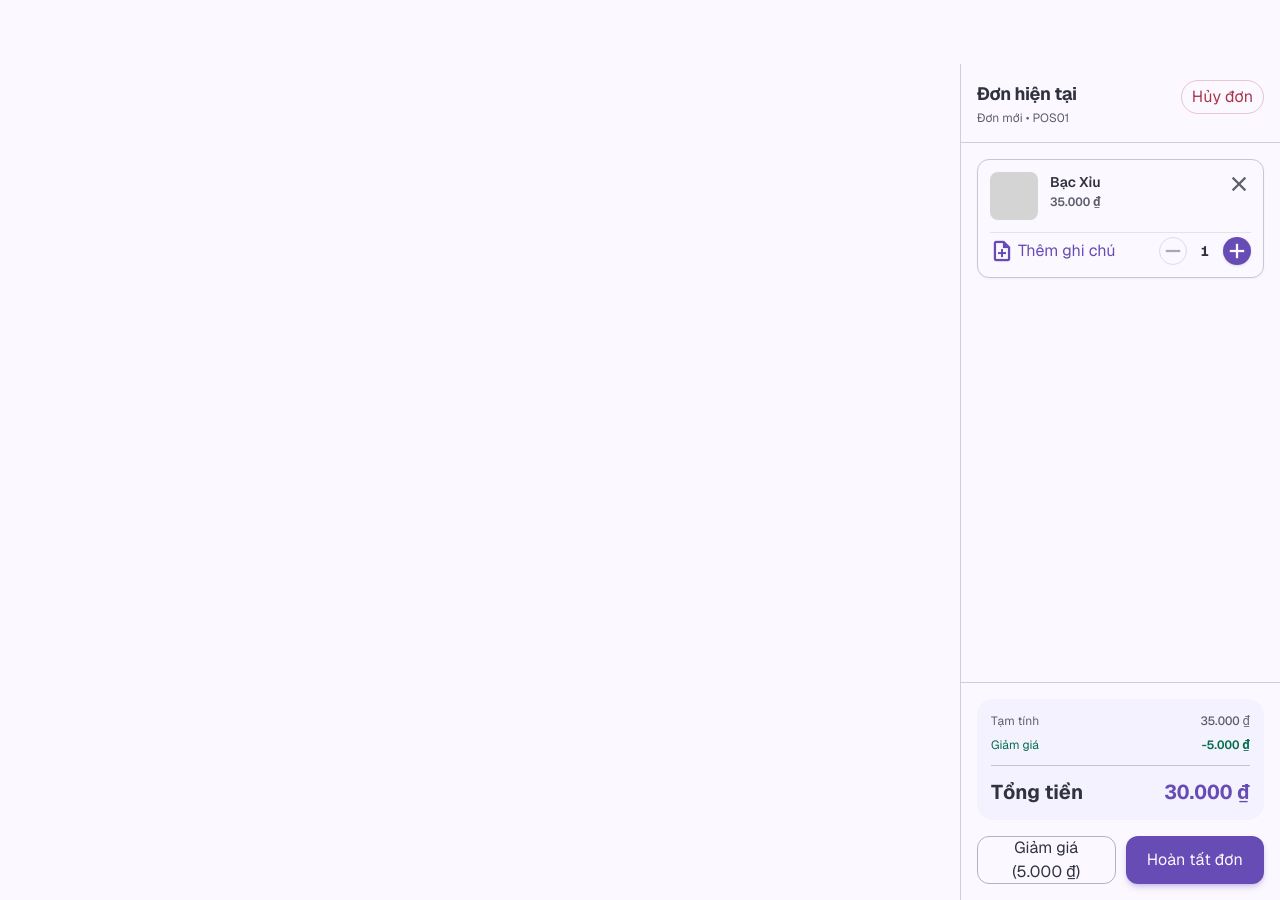
it: CartPanel discount modal › Quay lại does not commit discount changes
This screenshot has width=1280, height=900.
Click the button "Giảm giá (5.000 ₫)" at {"x": 1046, "y": 860}, box [977,836,1116,884]
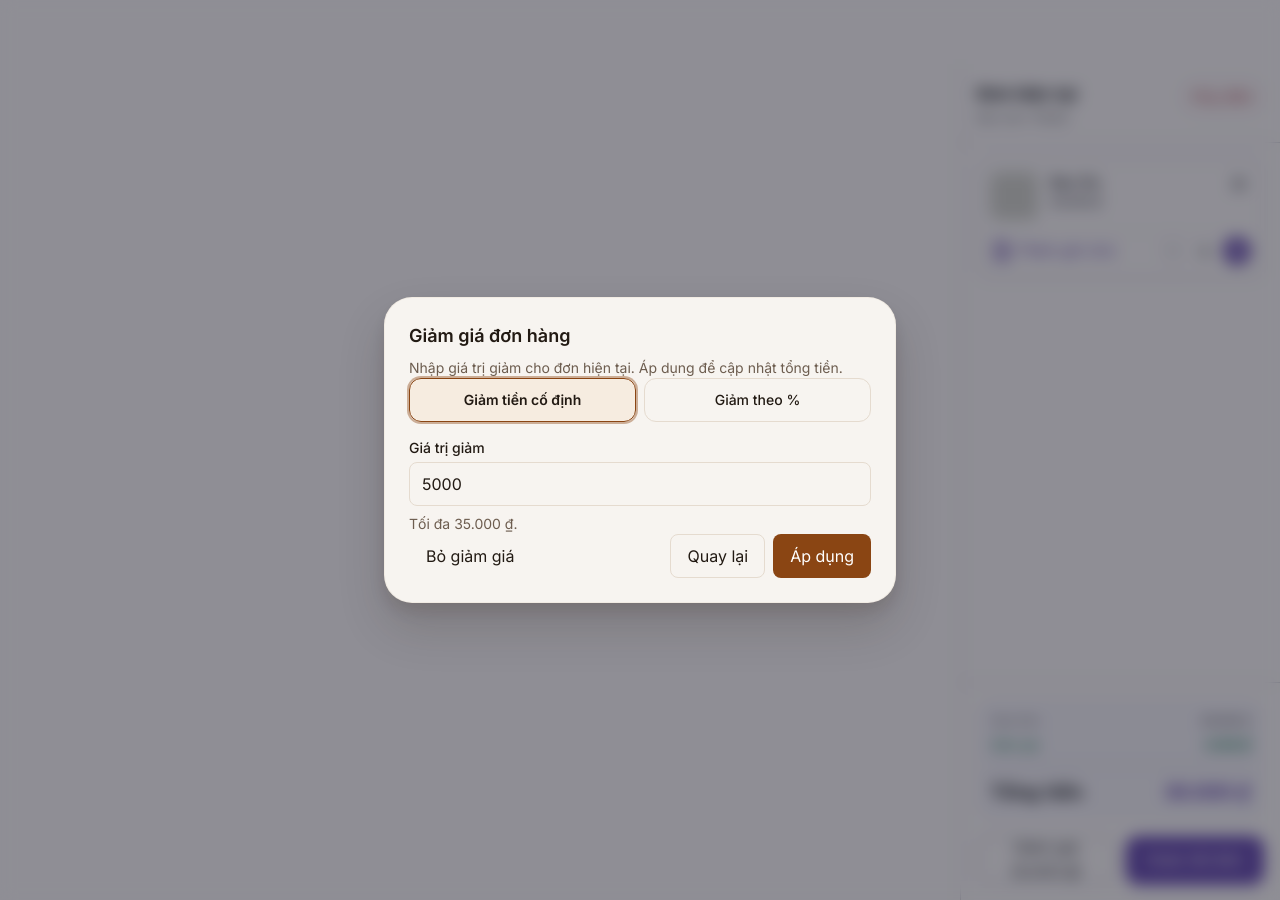
Expected: the dialog is shown, [384,297,896,603]
Replace the text in the field labelled "Giá trị giảm" with "9000" at {"x": 640, "y": 484}, box [409,462,871,506]
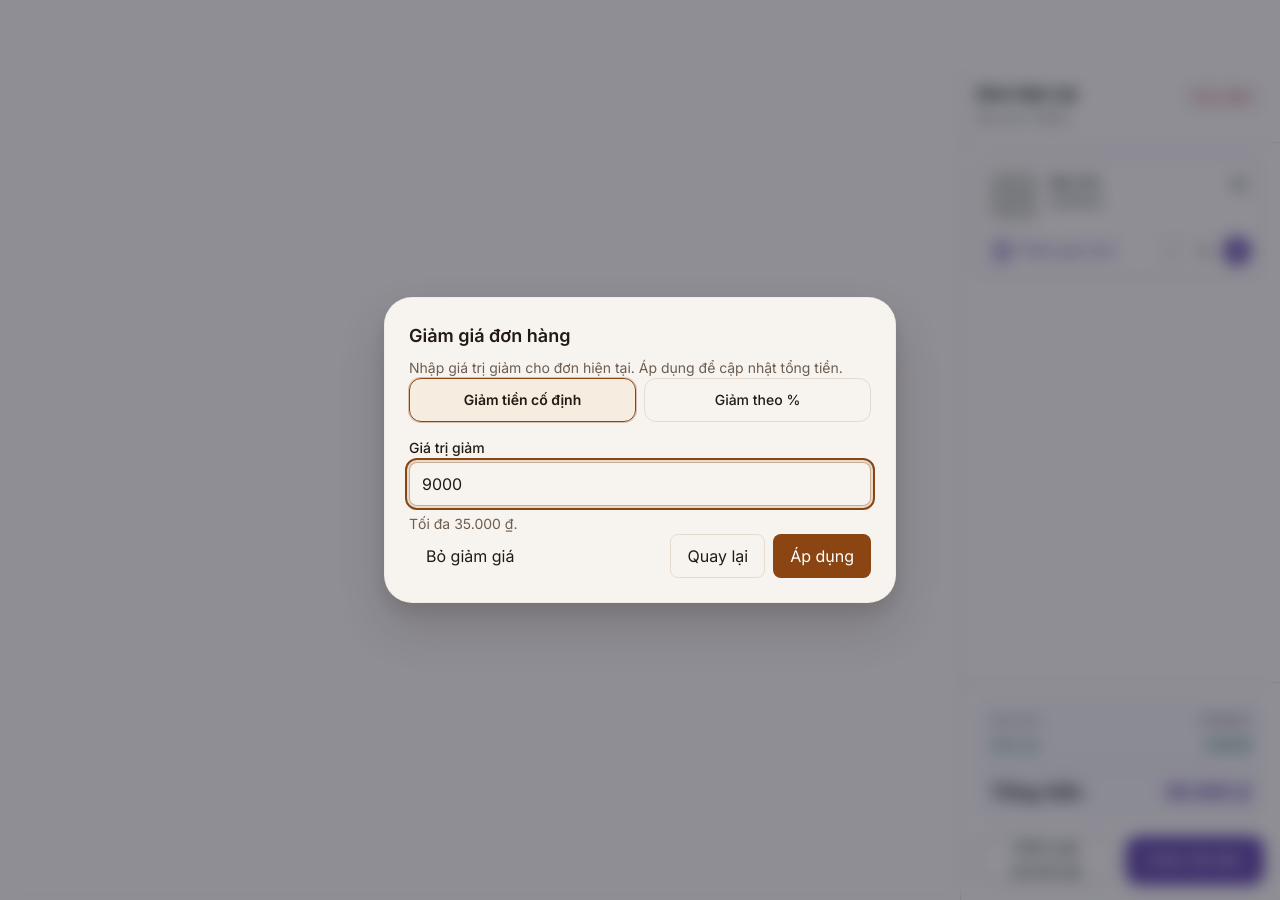
Click the button "Quay lại" at {"x": 718, "y": 556}, box [670,534,765,578]
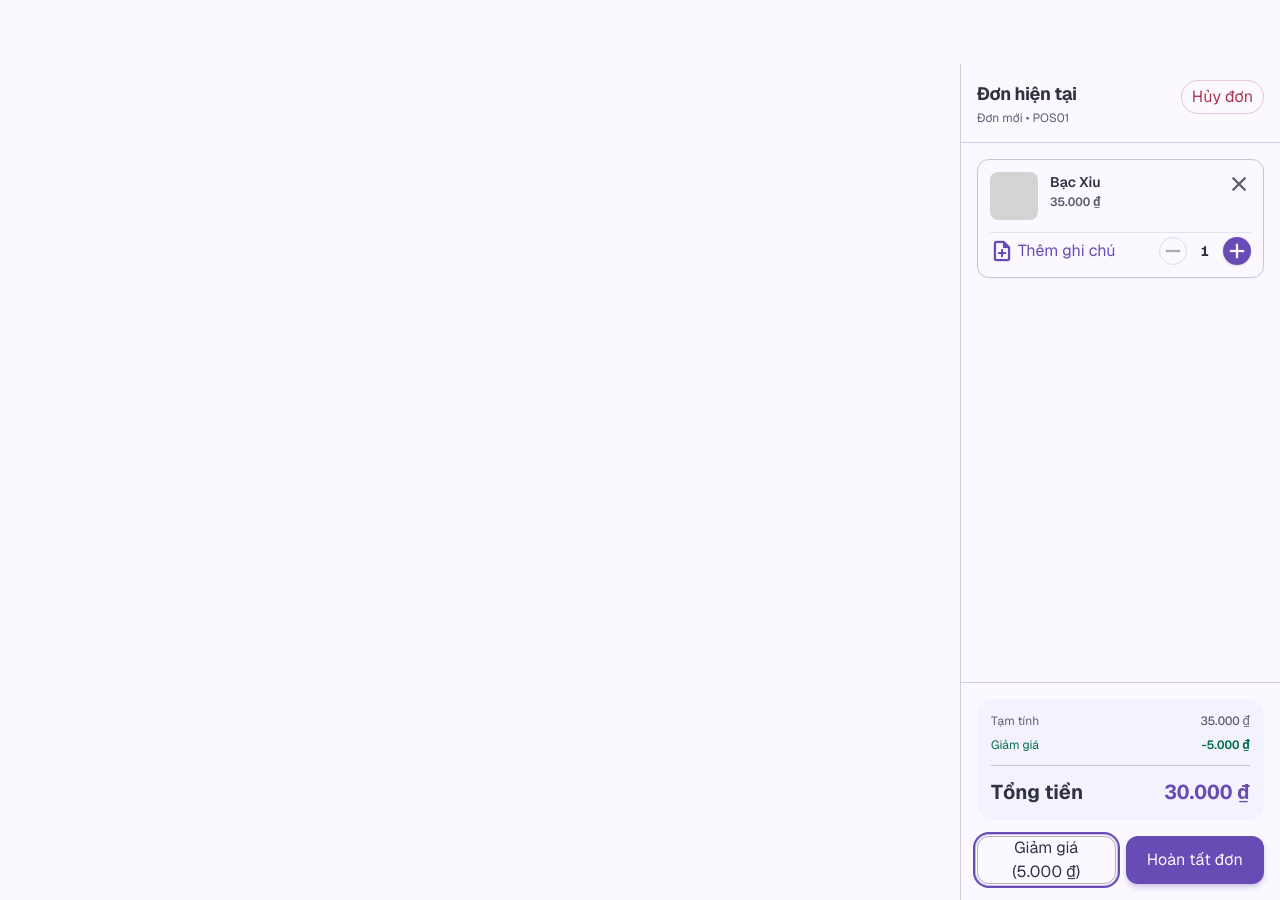
Expected: the dialog is gone
